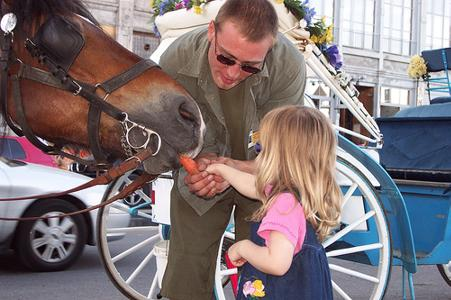person: (204, 107, 341, 300)
